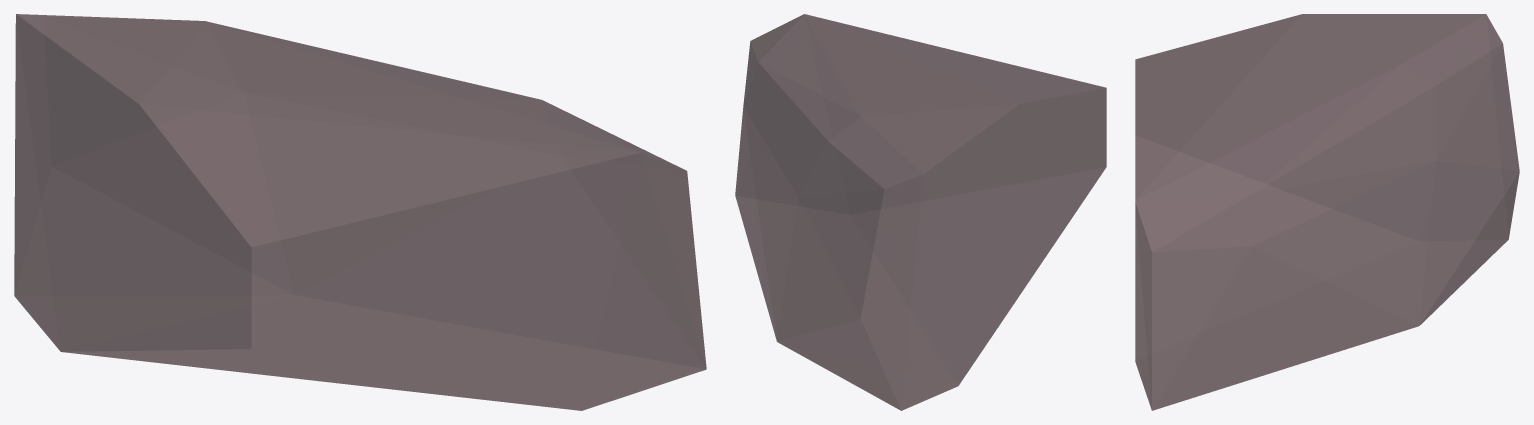
The picture shows the model from 3 angles, left to right: view 1: azimuth 30°, elevation 25°; view 2: azimuth 150°, elevation 25°; view 3: azimuth 270°, elevation 25°; orthographic projection. The views are drawn at different scales.
Visible parts, largest first — view 1: Shape_IndexedFaceSet.039_Shape_IndexedFaceSet.1978; view 2: Shape_IndexedFaceSet.039_Shape_IndexedFaceSet.1978; view 3: Shape_IndexedFaceSet.039_Shape_IndexedFaceSet.1978.
Part boxes in pixels (x1,y1,x2,y2): Shape_IndexedFaceSet.039_Shape_IndexedFaceSet.1978: [14, 14, 706, 410]; Shape_IndexedFaceSet.039_Shape_IndexedFaceSet.1978: [735, 14, 1106, 410]; Shape_IndexedFaceSet.039_Shape_IndexedFaceSet.1978: [1135, 14, 1519, 410].
Size of the model in its own units: 0.0633 by 0.0396 by 0.0607.
